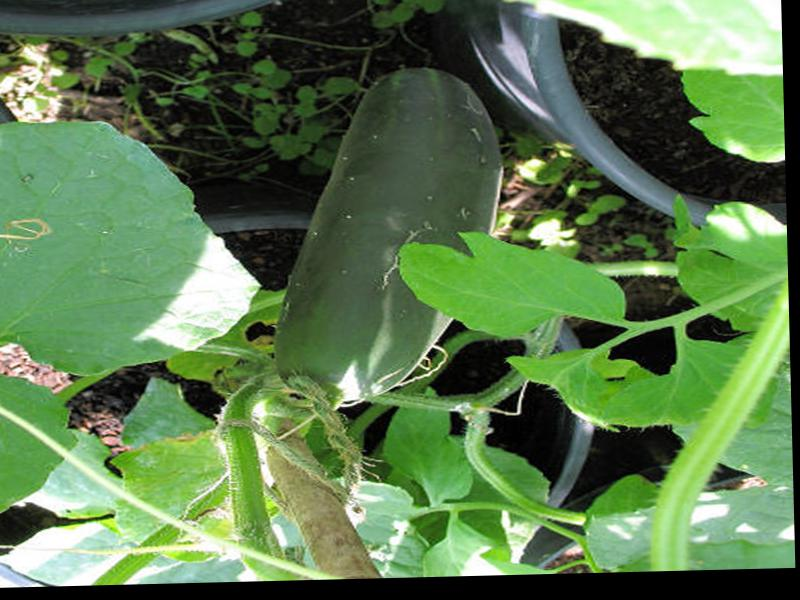Cucumber: (266, 65, 506, 405)
